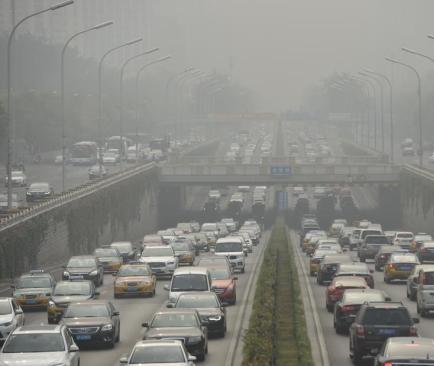bus: (70, 140, 97, 167), (105, 133, 127, 159)
car: (345, 295, 422, 363), (141, 306, 209, 361), (1, 323, 81, 366), (58, 298, 122, 349), (165, 288, 230, 338), (45, 273, 101, 326), (332, 287, 392, 334), (368, 332, 434, 366), (118, 337, 198, 365), (168, 266, 213, 310), (9, 268, 56, 310), (325, 275, 373, 311), (201, 263, 239, 305), (137, 243, 179, 280), (113, 262, 157, 297), (60, 253, 103, 288), (210, 236, 246, 274), (330, 260, 375, 290), (383, 247, 419, 283), (410, 264, 434, 315), (316, 254, 355, 285), (1, 296, 26, 340), (309, 243, 340, 277), (90, 244, 123, 274), (358, 232, 391, 262), (405, 262, 431, 298), (373, 243, 405, 271), (165, 239, 194, 264), (406, 229, 433, 253), (25, 180, 53, 203), (138, 233, 164, 257), (357, 229, 383, 253), (1, 190, 25, 214), (109, 240, 136, 260), (347, 229, 367, 252), (393, 229, 414, 249), (87, 162, 109, 181), (4, 169, 27, 186), (418, 241, 434, 262), (102, 152, 117, 164)
